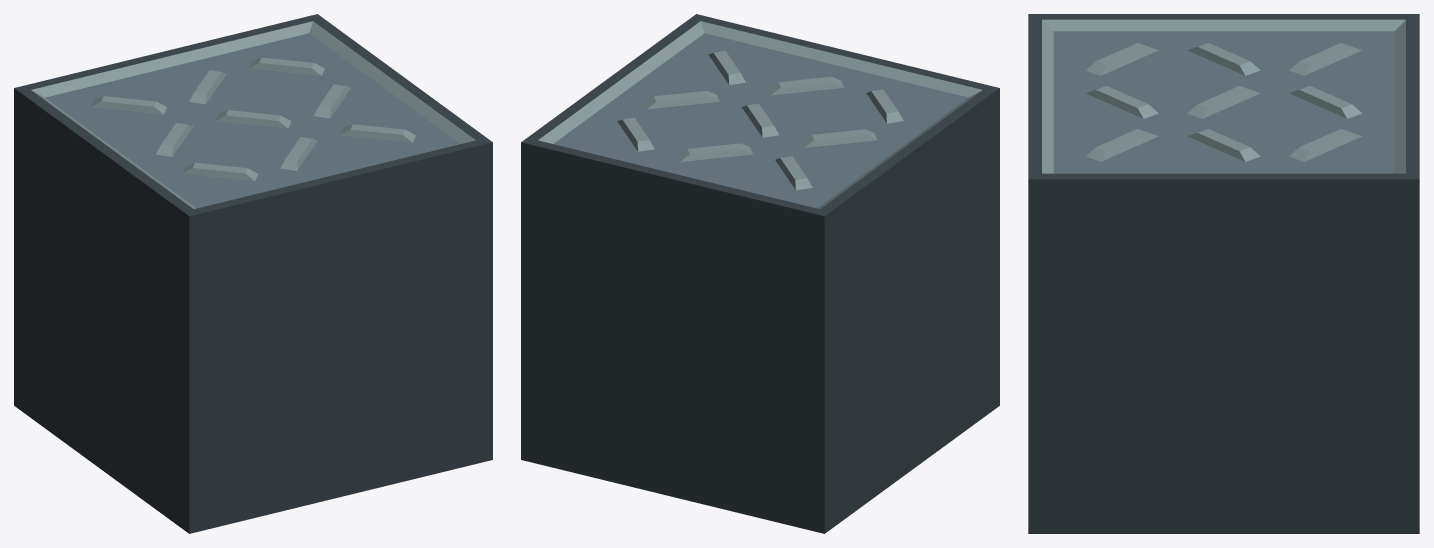
File: deck-block.glb
3 renders of one model, left to right at view 1: azimuth 30°, elevation 25°; view 2: azimuth 150°, elevation 25°; view 3: azimuth 270°, elevation 25°, orthographic. The views are drawn at different scales.
Parts seen in each view (by area): view 1: deck-block; view 2: deck-block; view 3: deck-block.
Boxes of the visible parts, left/top/right/bottom form: deck-block: left=14, top=14, right=492, bottom=533; deck-block: left=521, top=14, right=999, bottom=533; deck-block: left=1028, top=14, right=1419, bottom=533.
Size of the model in its own units: 1 by 1 by 1.
